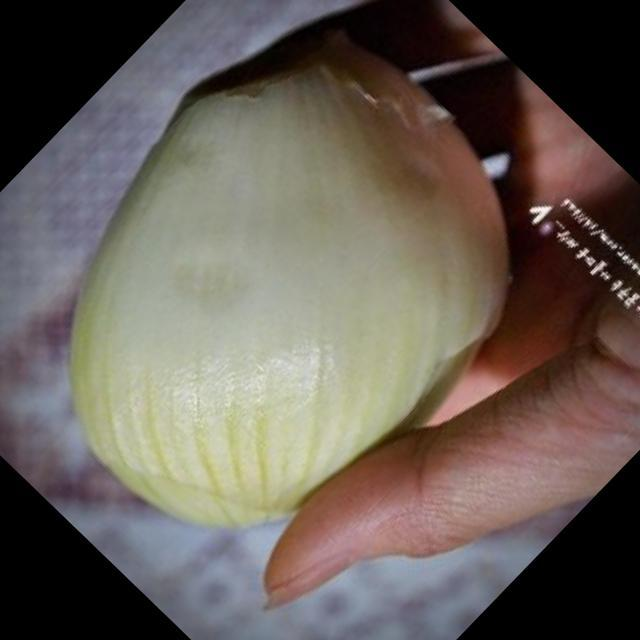Onion: (69, 57, 509, 533)
